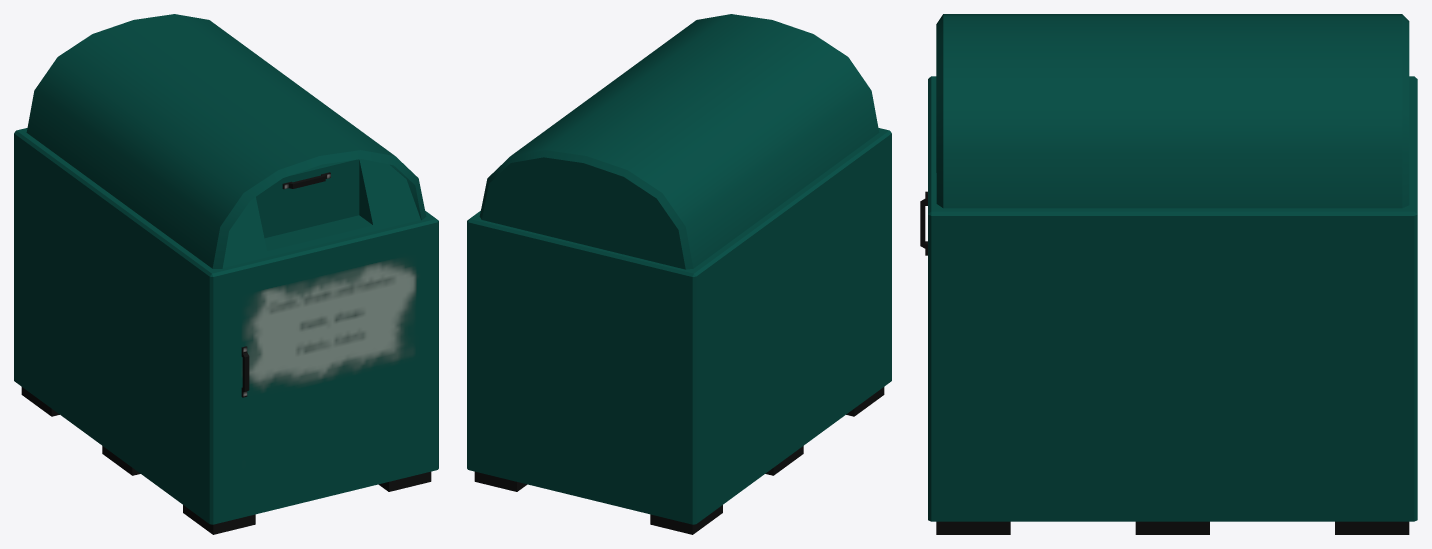
The model's file is clothingContainer.glb.
The picture shows the model from 3 angles, left to right: view 1: azimuth 30°, elevation 25°; view 2: azimuth 150°, elevation 25°; view 3: azimuth 270°, elevation 25°; orthographic projection. The views are drawn at different scales.
Parts seen in each view (by area): view 1: SM_ClothContainer; view 2: SM_ClothContainer; view 3: SM_ClothContainer.
Boxes of the visible parts, x1,y1,x2,y2 form: SM_ClothContainer: (14,14,438,534); SM_ClothContainer: (467,14,891,534); SM_ClothContainer: (920,14,1417,534).
Bounding box in the file's own units: 1.24 × 1.81 × 1.89.
Materials: 1 (1 with a texture image).
